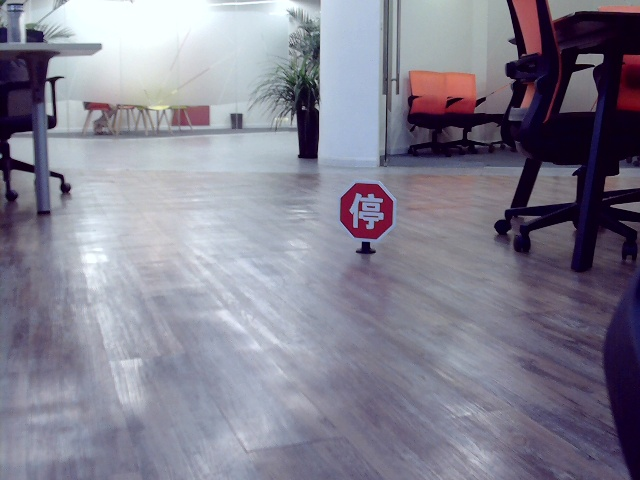stop: (347, 191, 383, 228)
